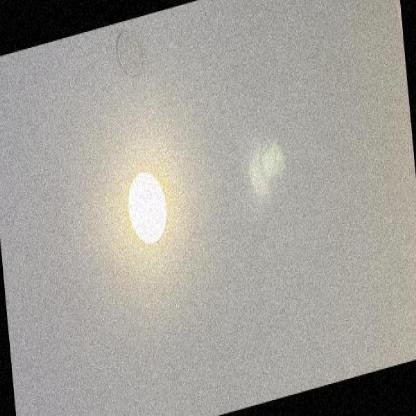light_on: (115, 140, 180, 271)
